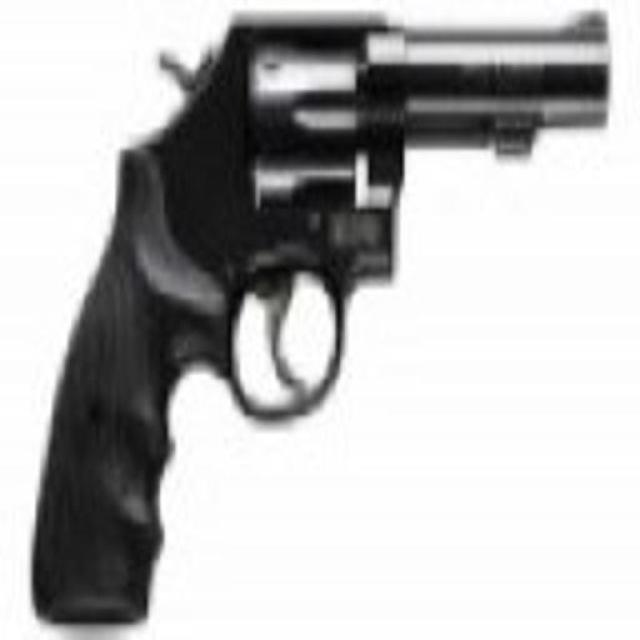pistol: (31, 5, 615, 629)
